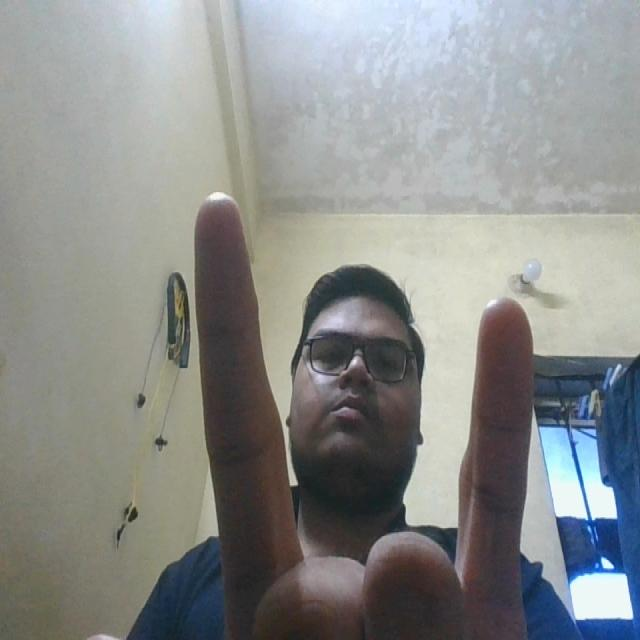iloveyou: (166, 184, 541, 632)
